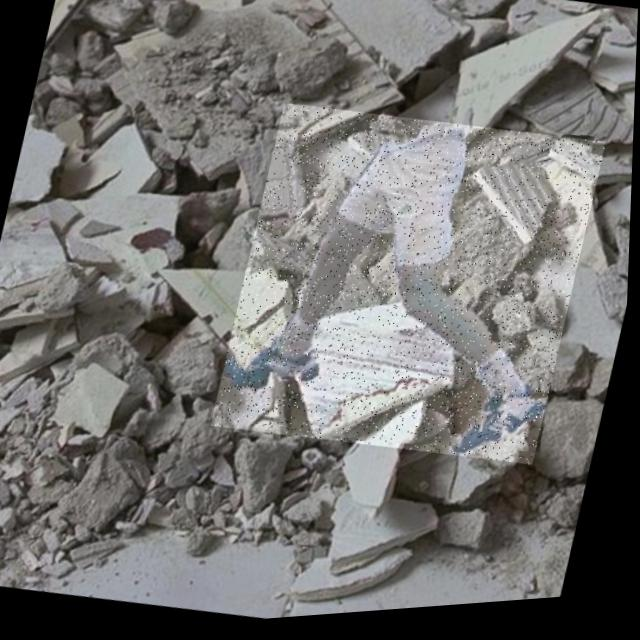Person in Rubble: (212, 89, 609, 492)
